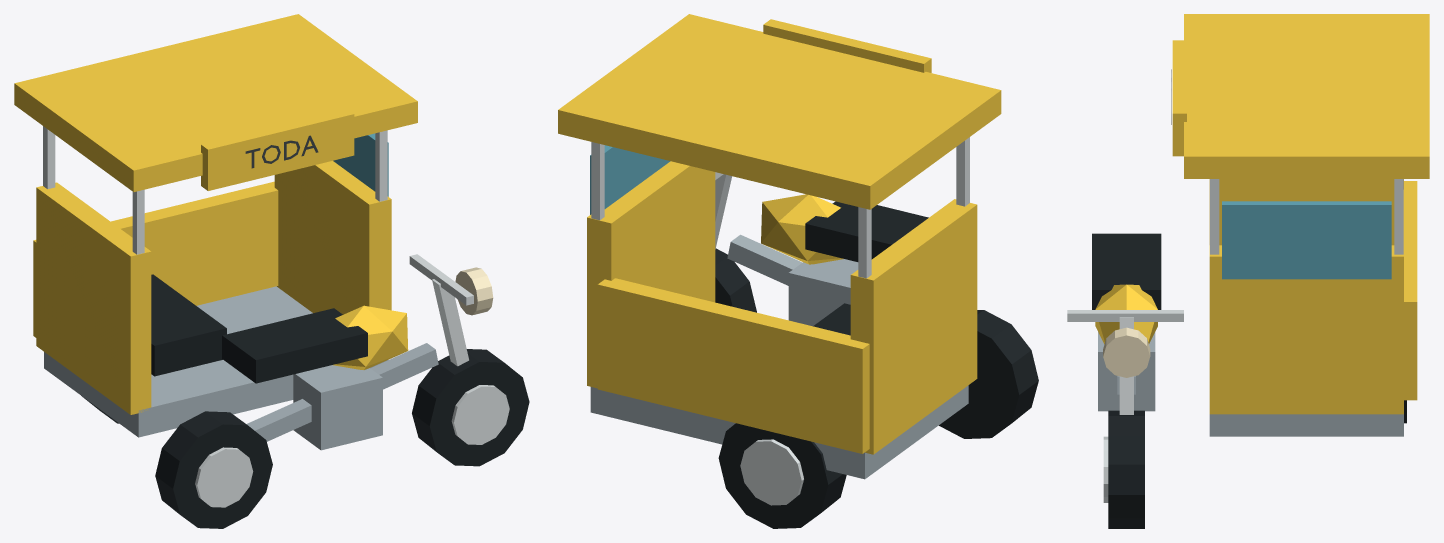
Rendered from TR_Tricycle_yellow.glb.
3 views of the same model, side by side, from view 1: azimuth 30°, elevation 25°; view 2: azimuth 150°, elevation 25°; view 3: azimuth 270°, elevation 25° (orthographic). The views are drawn at different scales.
Visible parts, largest first — view 1: TR_Tricycle_yellow; view 2: TR_Tricycle_yellow; view 3: TR_Tricycle_yellow.
Boxes of the visible parts, box(x1,y1,x2,y2) form: TR_Tricycle_yellow: box(14, 14, 529, 528); TR_Tricycle_yellow: box(558, 14, 1038, 528); TR_Tricycle_yellow: box(1067, 14, 1429, 528).
Size of the model in its own units: 2.08 by 1.96 by 1.77.
